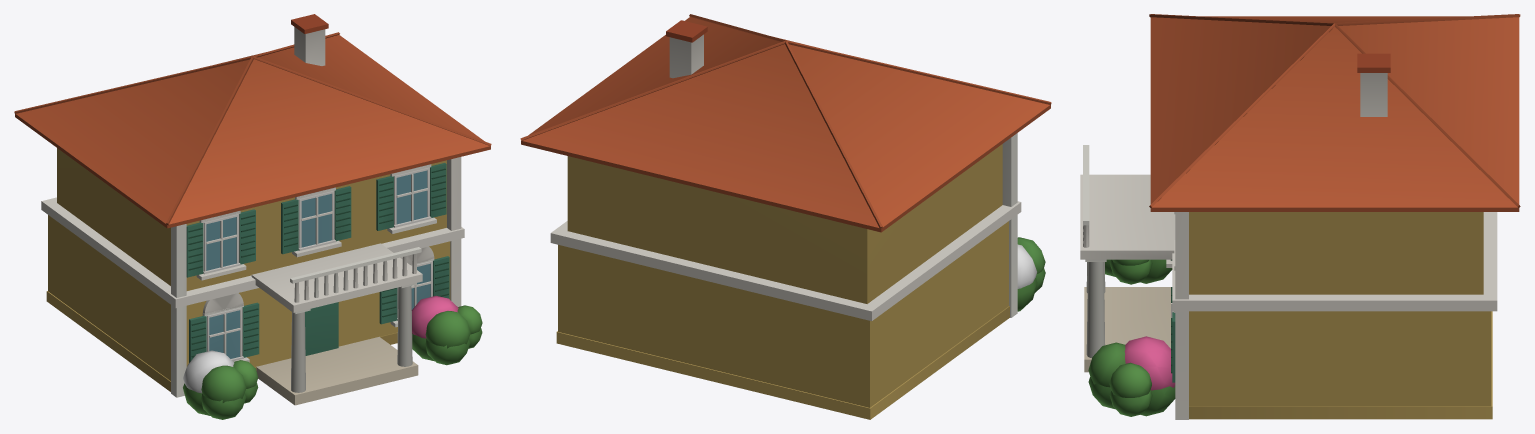
3 renders of one model, left to right at view 1: azimuth 30°, elevation 25°; view 2: azimuth 150°, elevation 25°; view 3: azimuth 270°, elevation 25°, orthographic. The views are drawn at different scales.
Bounding box in the file's own units: 11.62 × 9.41 × 11.25.
